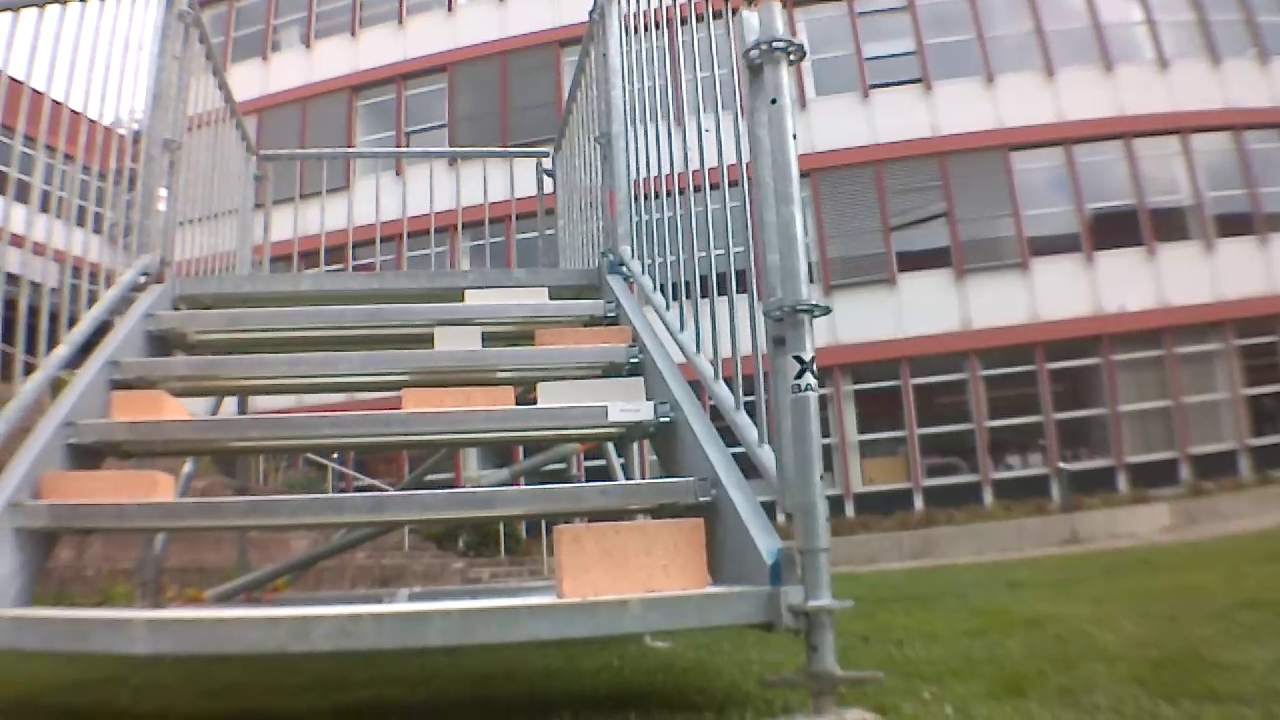brick: (546, 515, 708, 604), (32, 464, 181, 503), (533, 372, 641, 406), (396, 386, 517, 412), (528, 323, 636, 349), (112, 390, 194, 421), (466, 287, 553, 310), (435, 328, 478, 354)
edge: (0, 584, 780, 642), (62, 397, 683, 446), (12, 472, 732, 510), (101, 340, 650, 381), (139, 297, 623, 333), (174, 267, 600, 293)
stairs: (0, 0, 821, 713)
steps: (0, 261, 772, 652)
